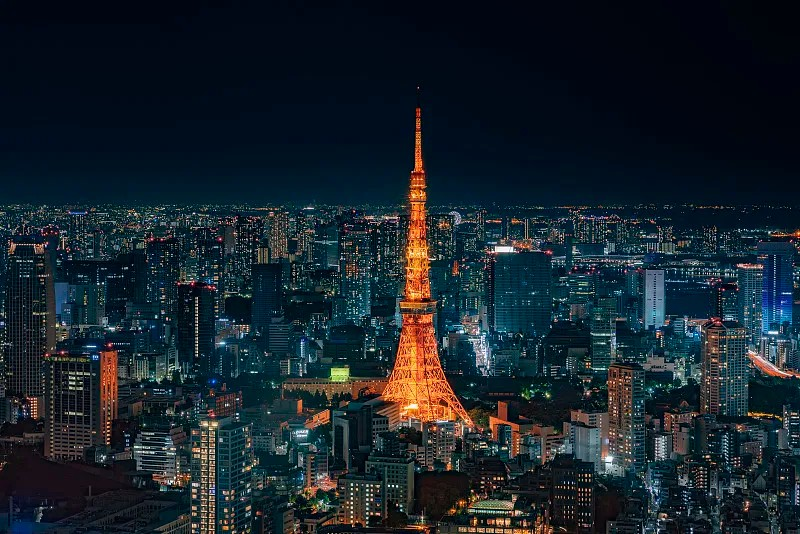Tokyo: (379, 82, 476, 433)
